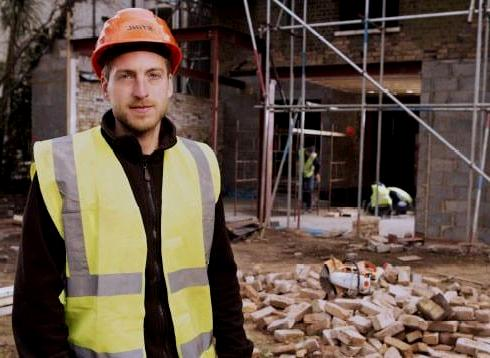helmet: (89, 7, 184, 67)
person: (21, 9, 240, 343)
